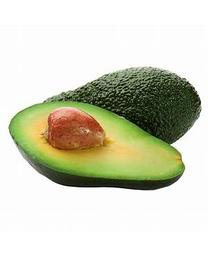avocado: (9, 101, 185, 190), (45, 68, 201, 152)
